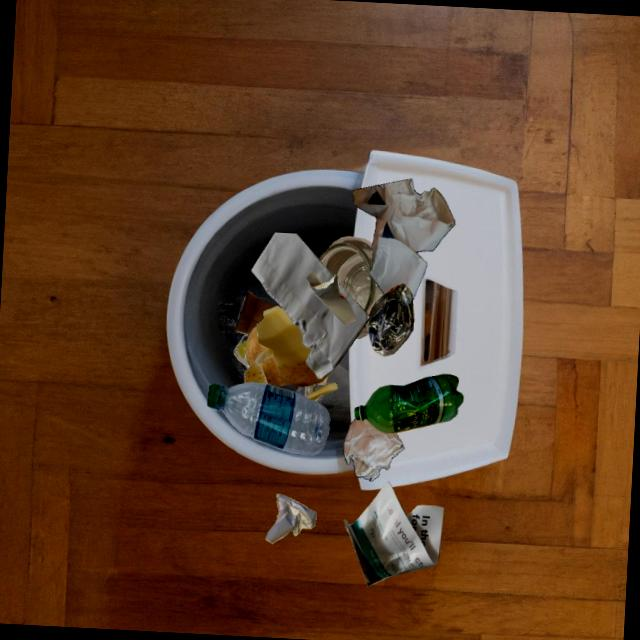biowaste: (244, 306, 332, 386), (246, 326, 268, 367), (261, 356, 291, 386)
cardboard: (305, 271, 356, 326), (235, 291, 277, 335)
glass: (319, 236, 384, 314), (234, 334, 250, 369)
metal: (365, 283, 414, 357)
paper: (251, 233, 370, 379), (353, 179, 455, 301), (344, 481, 444, 587), (343, 418, 404, 482), (265, 494, 317, 544), (305, 375, 329, 396), (313, 394, 324, 402)
plastic: (207, 382, 330, 455), (354, 374, 464, 433)
